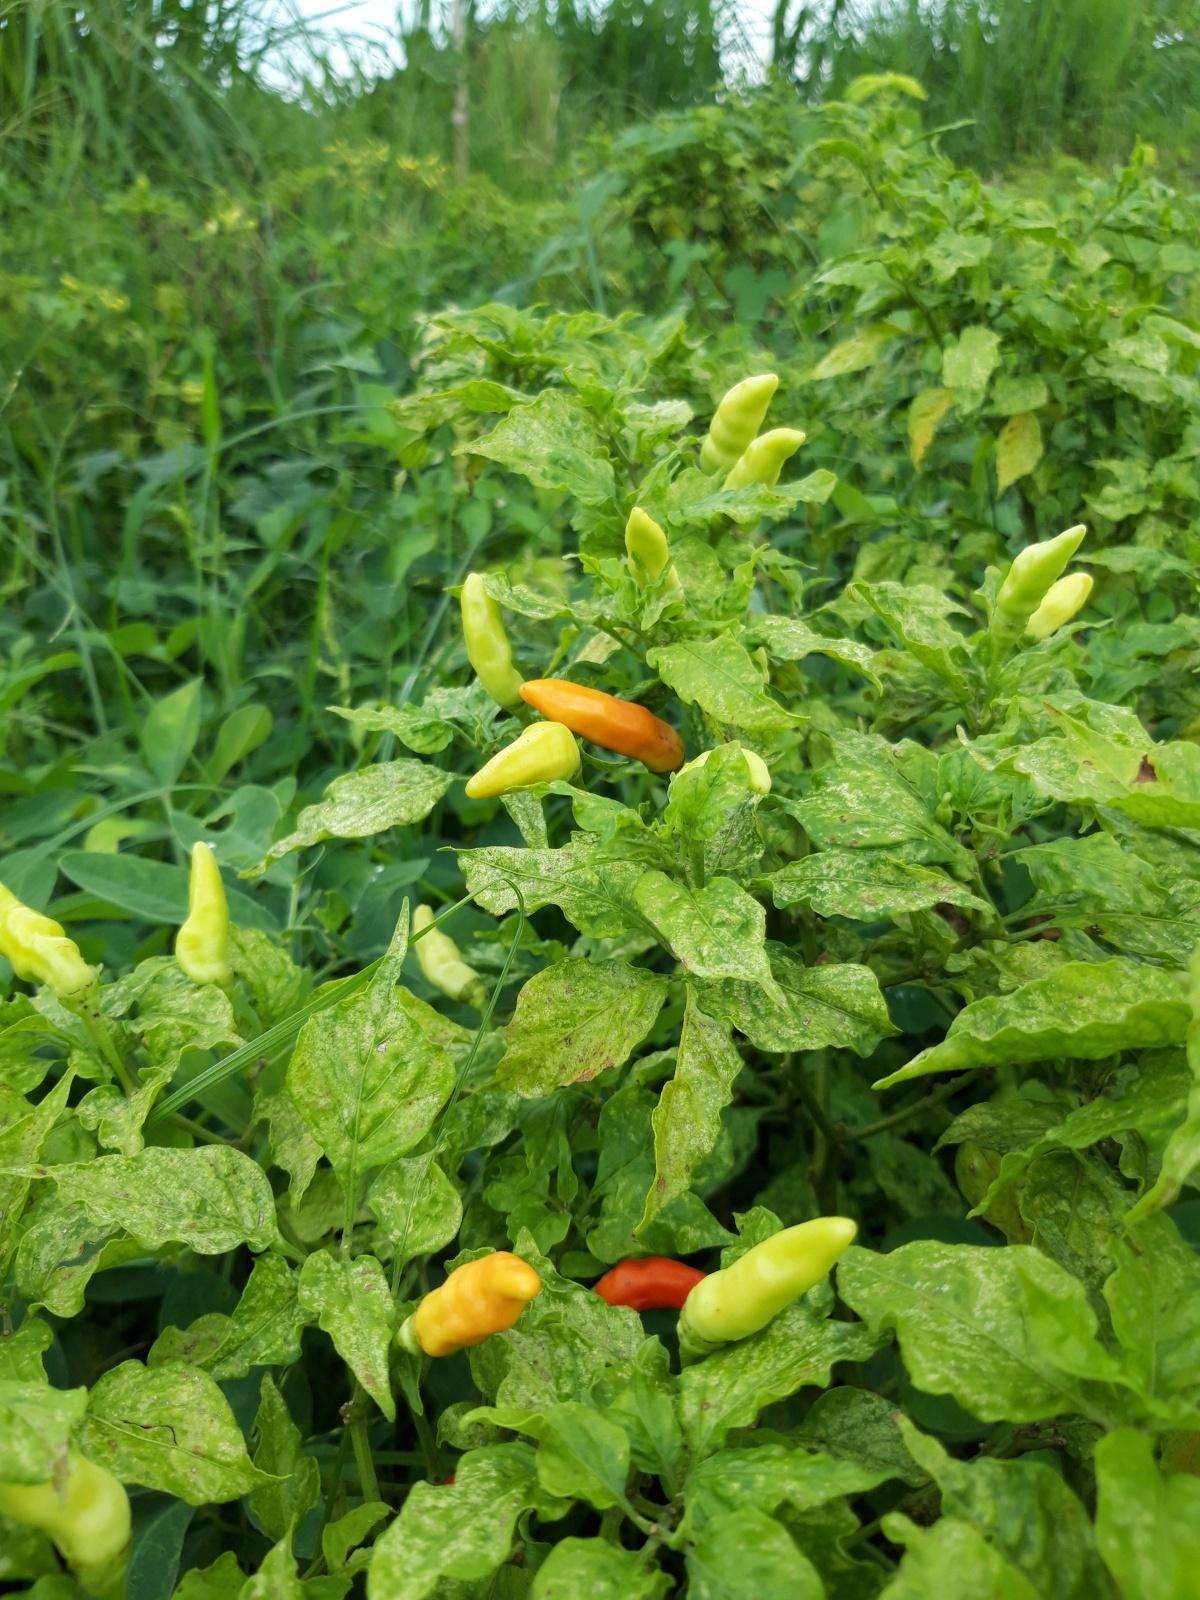cabai_normal: (682, 1217, 857, 1351), (521, 679, 689, 771), (417, 1250, 541, 1357), (0, 881, 97, 995), (465, 722, 582, 800), (993, 522, 1088, 616), (461, 573, 527, 709), (702, 373, 776, 477), (179, 842, 231, 985), (412, 903, 483, 998), (624, 505, 686, 611), (726, 425, 807, 500), (595, 1257, 710, 1309), (1025, 571, 1097, 637)
